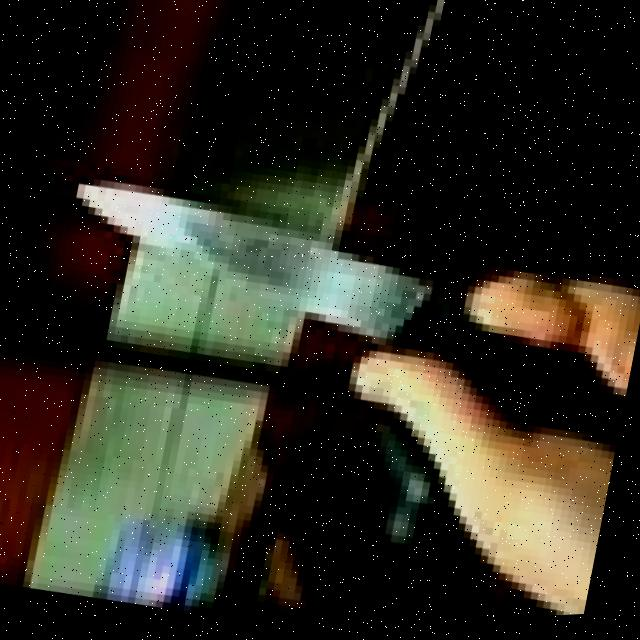knife: (52, 161, 488, 386)
